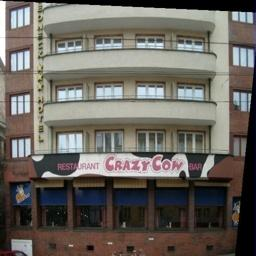building: (31, 0, 227, 232)
